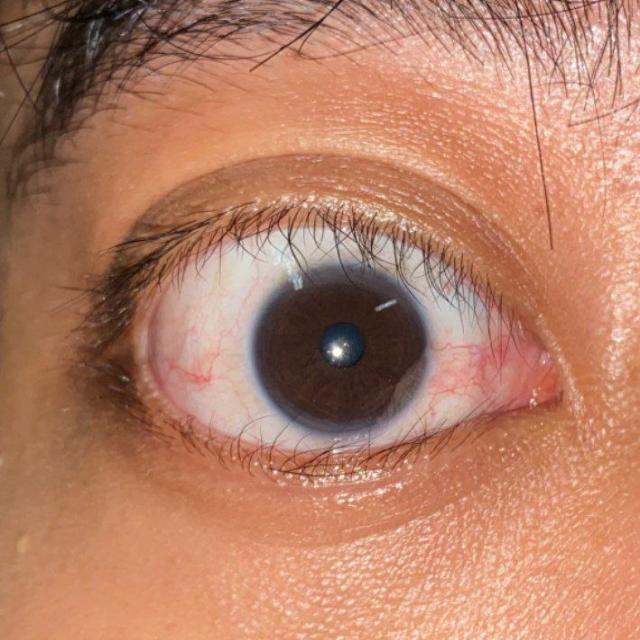Normal: (252, 260, 428, 438)
